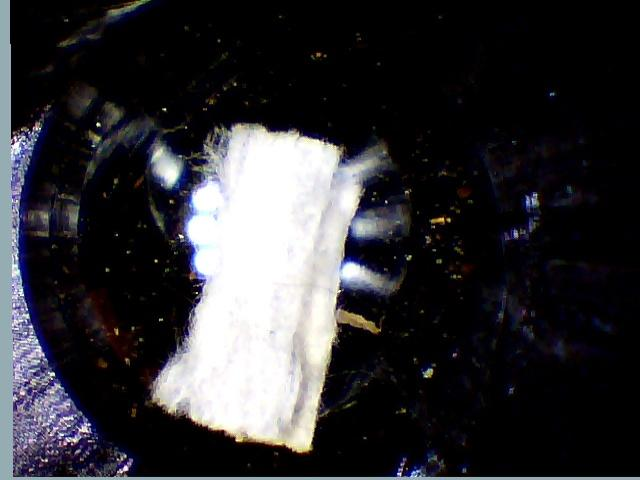megot: (140, 114, 373, 455)
